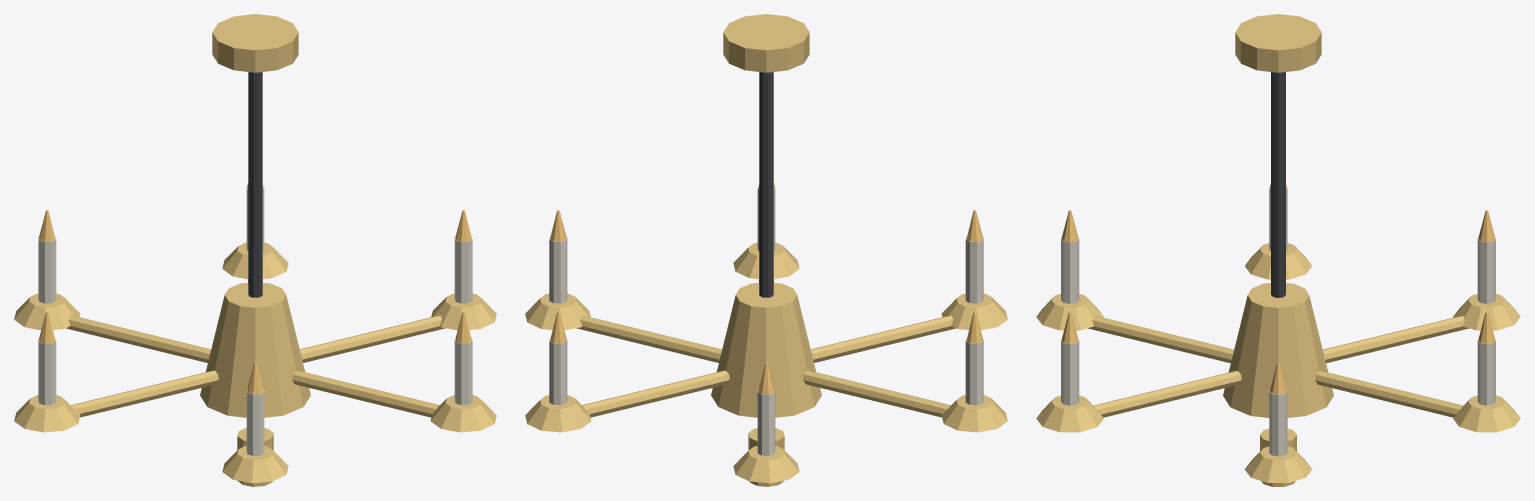
The model's file is PRP_Candelabro.fbx.
3 views of the same model, side by side, from view 1: azimuth 30°, elevation 25°; view 2: azimuth 150°, elevation 25°; view 3: azimuth 270°, elevation 25° (orthographic).
Visible parts, largest first — view 1: PRP_Candelabro; view 2: PRP_Candelabro; view 3: PRP_Candelabro.
Part boxes in pixels (x1,y1,x2,y2): PRP_Candelabro: (14, 14, 496, 486); PRP_Candelabro: (525, 14, 1007, 486); PRP_Candelabro: (1036, 14, 1520, 486).
Bounding box in the file's own units: 0.8846 × 0.8 × 0.7855.
